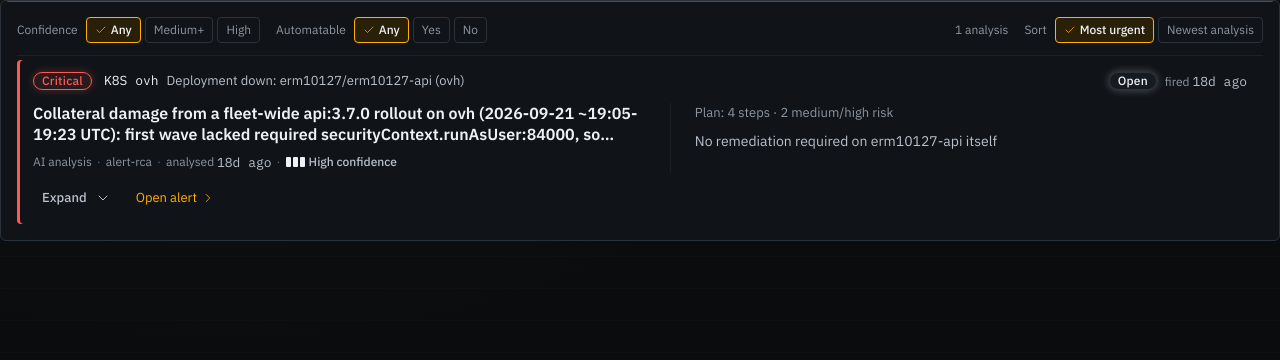
Scenario: AnalysesView › expanding a row › keeps the conclusion of a long one-sentence summary reachable
The width and height of the screenshot is (1280, 360).
Expected: the text "Collateral damage from a fleet-wide" is shown, [33, 103, 637, 165]
Click the button "Expand": x=76, y=198 [33, 184, 120, 212]
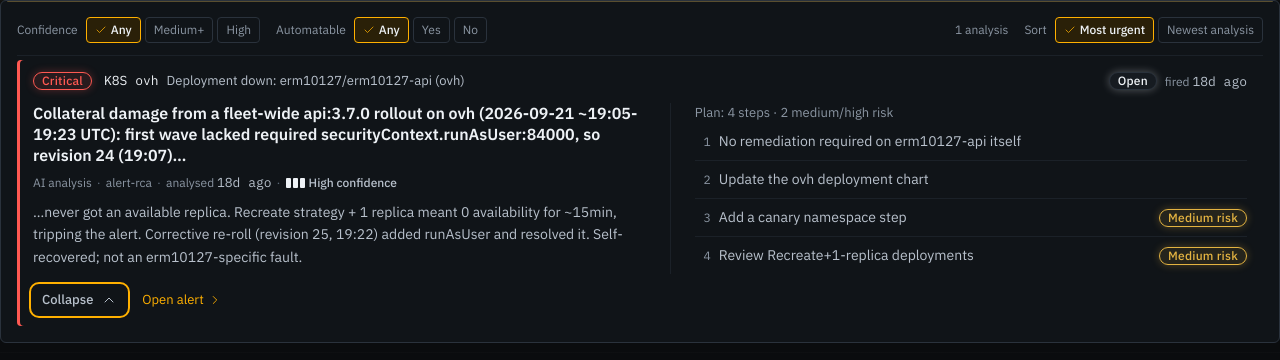
Expected: the text "not an erm10127-specific fault." is shown, [33, 203, 623, 266]
